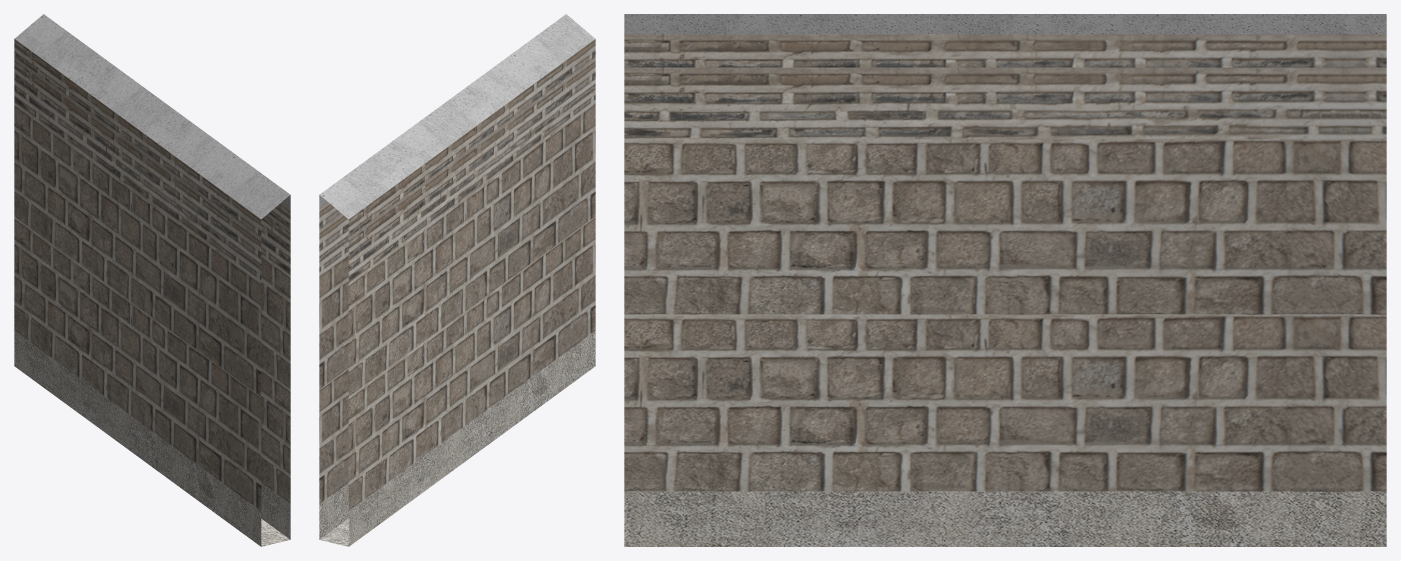
Rendered from SM_StoneWall03C.fbx.
3 renders of one model, left to right at view 1: azimuth 30°, elevation 25°; view 2: azimuth 150°, elevation 25°; view 3: azimuth 270°, elevation 25°, orthographic. The views are drawn at different scales.
Visible parts, largest first — view 1: SM_StoneWall03C; view 2: SM_StoneWall03C; view 3: SM_StoneWall03C.
Part boxes in pixels (x1,y1,x2,y2): SM_StoneWall03C: (14,14,290,546); SM_StoneWall03C: (319,14,595,546); SM_StoneWall03C: (624,14,1386,546).
Size of the model in its own units: 16.75 by 245 by 189.
1 material, 1 textured.
